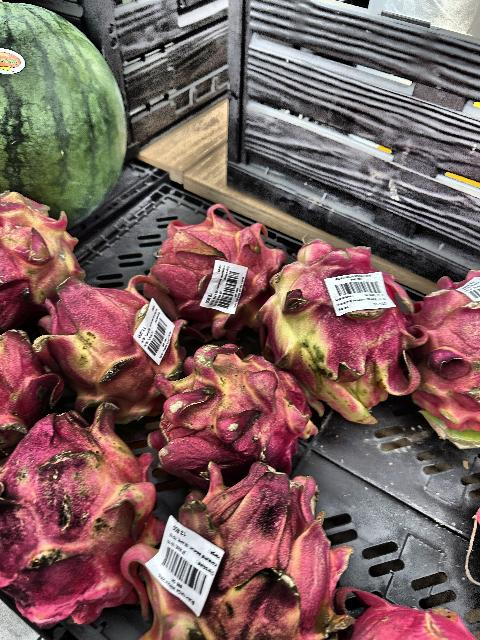buah-naga-belum-matang: (0, 404, 160, 624), (158, 458, 346, 640), (266, 245, 404, 400), (162, 348, 308, 468), (45, 280, 179, 408), (152, 216, 284, 328), (1, 189, 92, 329), (350, 580, 480, 640), (1, 323, 48, 443)
buah-naga-matang: (410, 270, 480, 450)
